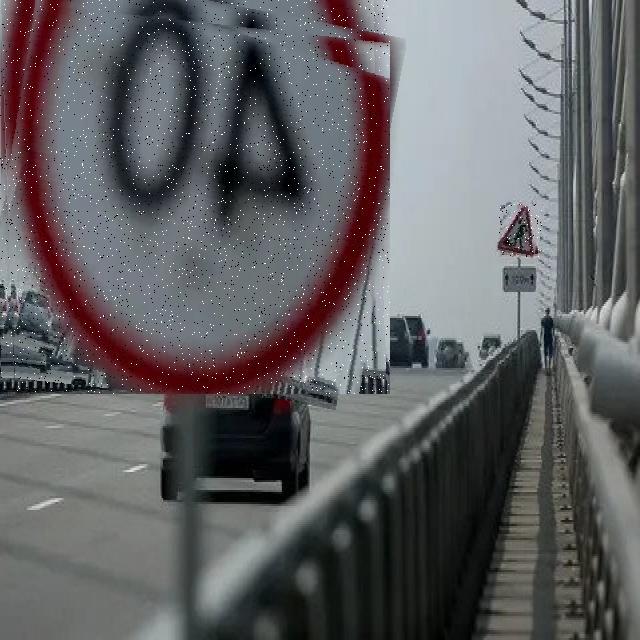roadwork: (498, 204, 542, 259)
speed limit 40: (0, 0, 390, 394)
